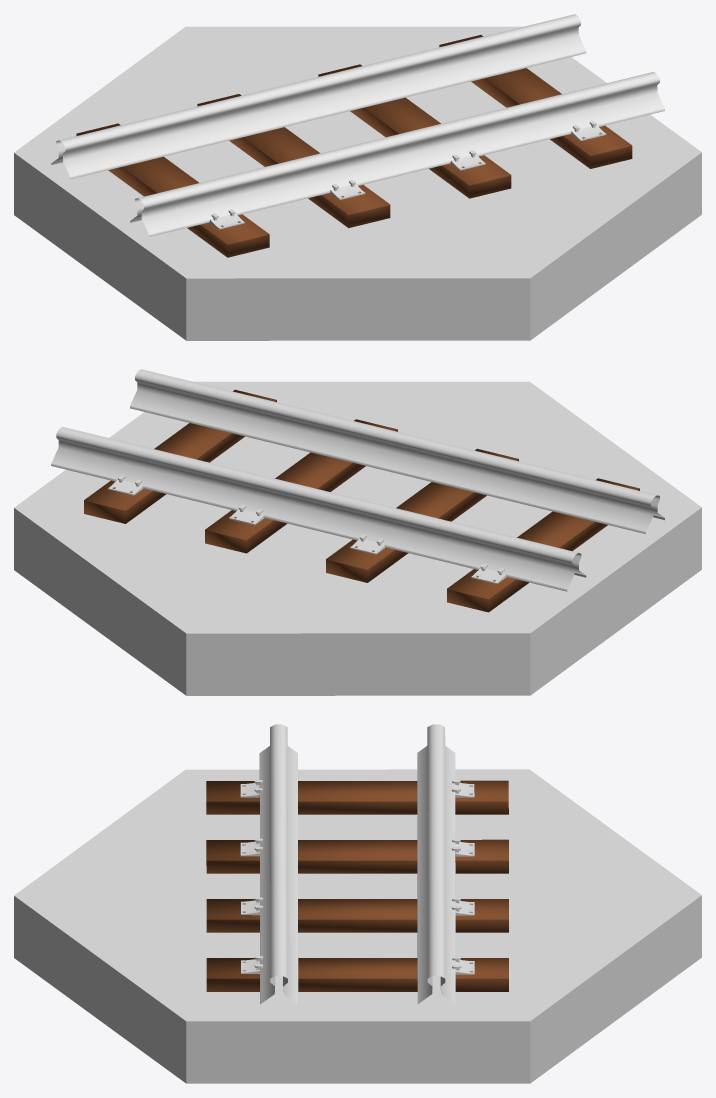
The model's file is trilho_reto.fbx.
3 views of the same model, one above another, from view 1: azimuth 30°, elevation 25°; view 2: azimuth 150°, elevation 25°; view 3: azimuth 270°, elevation 25° (orthographic).
Visible parts, largest first — view 1: trilho_reto; view 2: trilho_reto; view 3: trilho_reto.
Boxes of the visible parts, left/top/right/bottom form: trilho_reto: left=14, top=14, right=701, bottom=340; trilho_reto: left=14, top=369, right=701, bottom=695; trilho_reto: left=14, top=724, right=701, bottom=1083.
Size of the model in its own units: 173 by 34.61 by 200.
